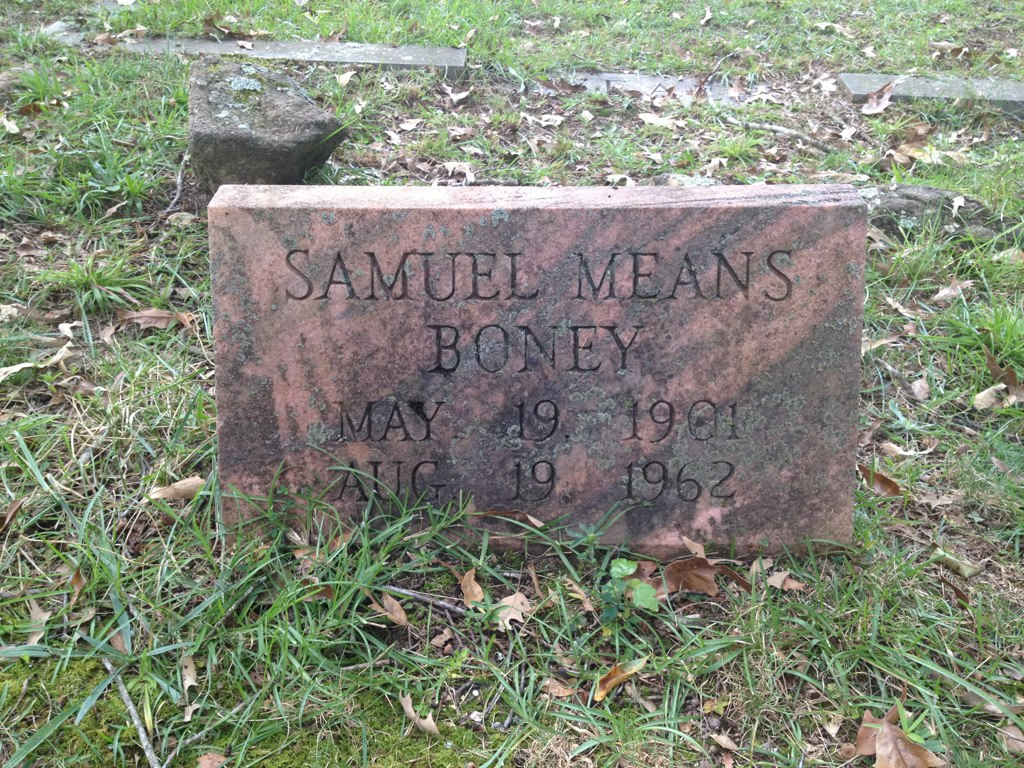upright: (206, 178, 860, 553)
